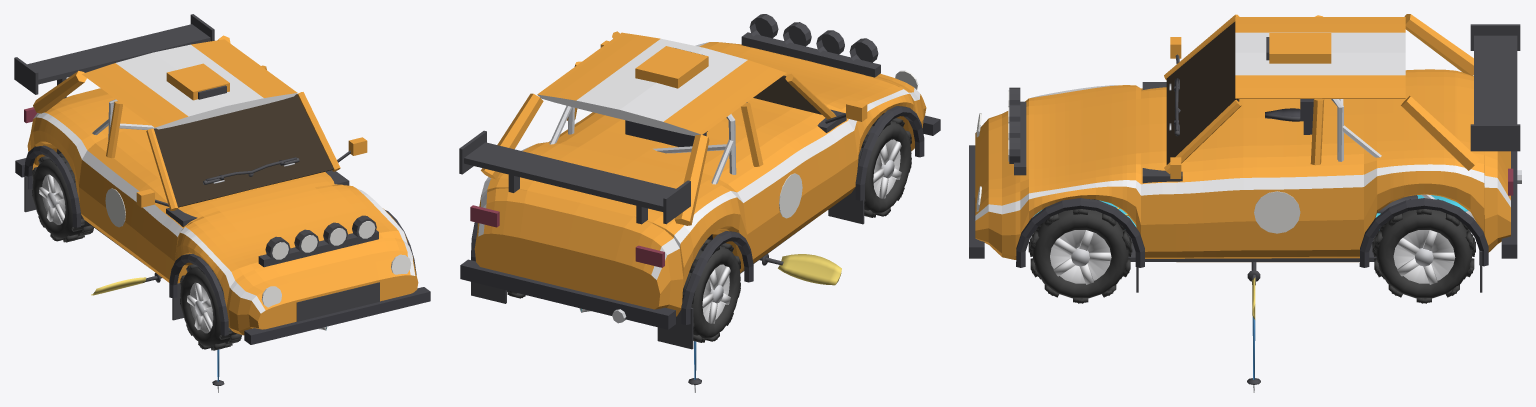
File: Rides.fbx
3 renders of one model, left to right at view 1: azimuth 30°, elevation 25°; view 2: azimuth 150°, elevation 25°; view 3: azimuth 270°, elevation 25°, orthographic. The views are drawn at different scales.
Visible parts, largest first — view 1: CarBody, CarWheelRR, CarWheelFR, BikeFork, Paddle; view 2: CarBody, CarWheelRR, CarWheelFR, Paddle; view 3: CarBody, CarWheelFL, CarWheelRL, Kayak.
Boxes of the visible parts, box(x1,y1,x2,y2) form: CarBody: box(14, 14, 430, 344); CarWheelRR: box(32, 152, 93, 242); CarWheelFR: box(180, 262, 242, 350); BikeFork: box(203, 157, 299, 184); Paddle: box(91, 273, 161, 295); CarBody: box(459, 14, 940, 349); CarWheelRR: box(682, 239, 740, 342); CarWheelFR: box(858, 115, 911, 217); Paddle: box(759, 254, 841, 285); CarBody: box(969, 14, 1521, 292); CarWheelFL: box(1028, 199, 1132, 303); CarWheelRL: box(1372, 199, 1475, 303); Kayak: box(1029, 195, 1475, 233).
Size of the model in its own units: 216 by 249 by 357.
